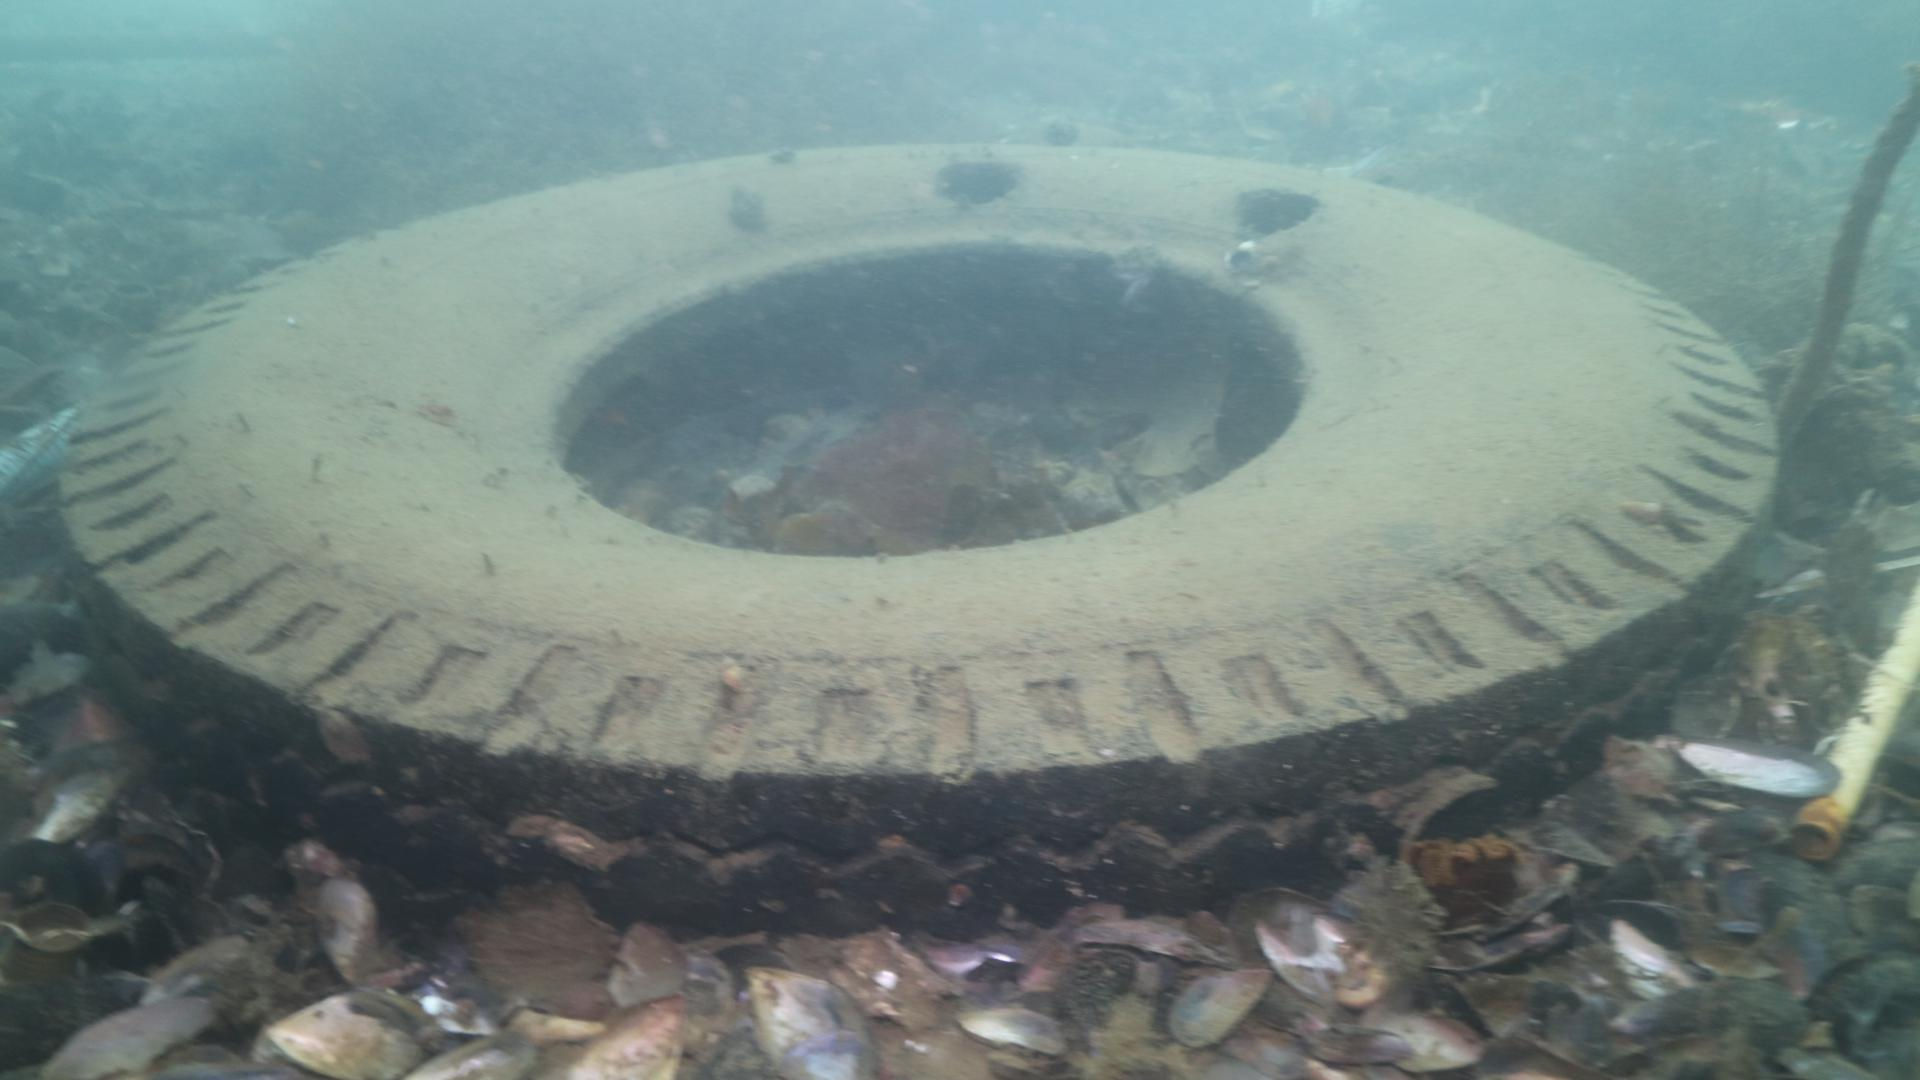rope: (1774, 84, 1920, 415)
tire: (58, 138, 1782, 932)
